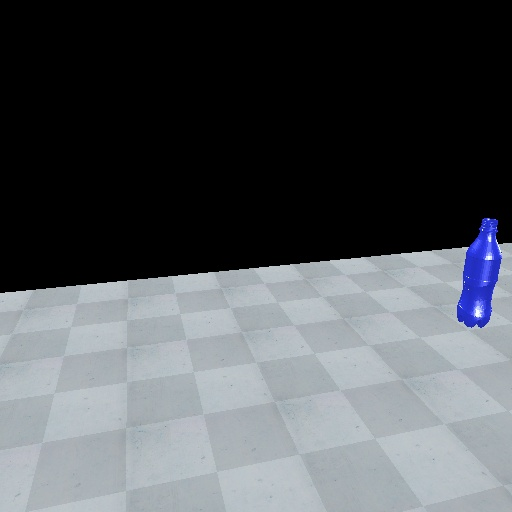bottle: (455, 216, 503, 329)
